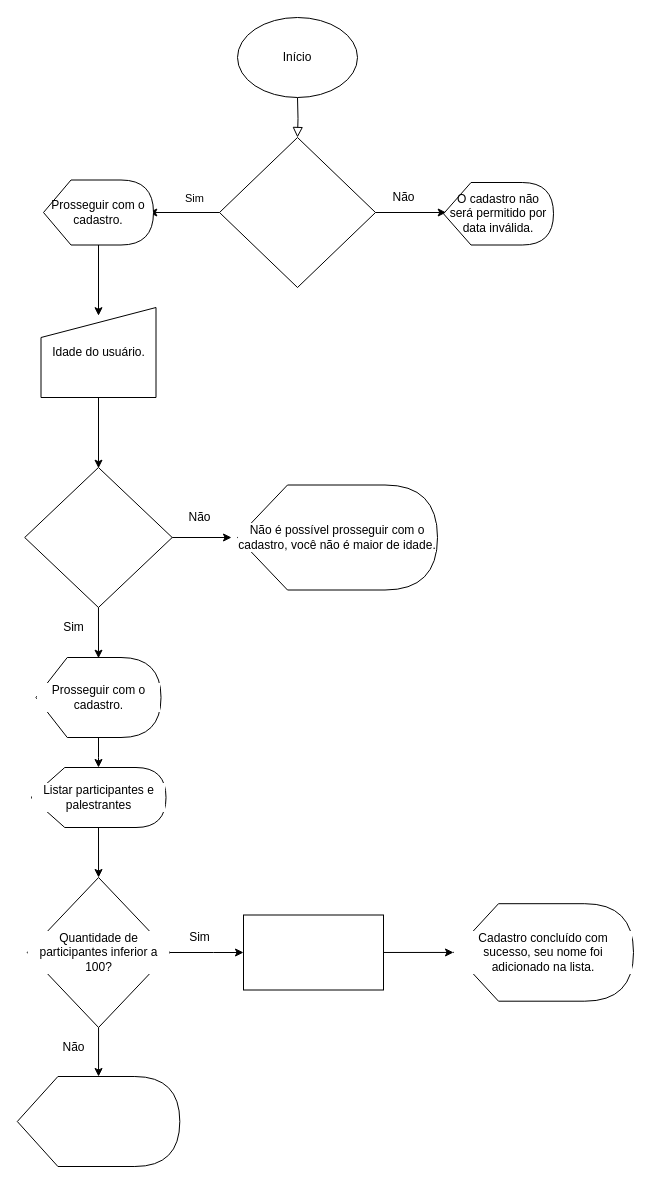
The diagram is 652 pixels wide and 1184 high, and some of its shapes have lost their labels. Each missing label, with the centre of its shape:
"Adicionar o cadastro na lista de participantes" belongs at pixel 313 952.
"Cadastro inválido, a lista já atingiu seu limite de participantes." belongs at pixel 98 1121.
"Data posterior ao evento?" belongs at pixel 297 212.
"Maior do que 18 anos?" belongs at pixel 98 537.
